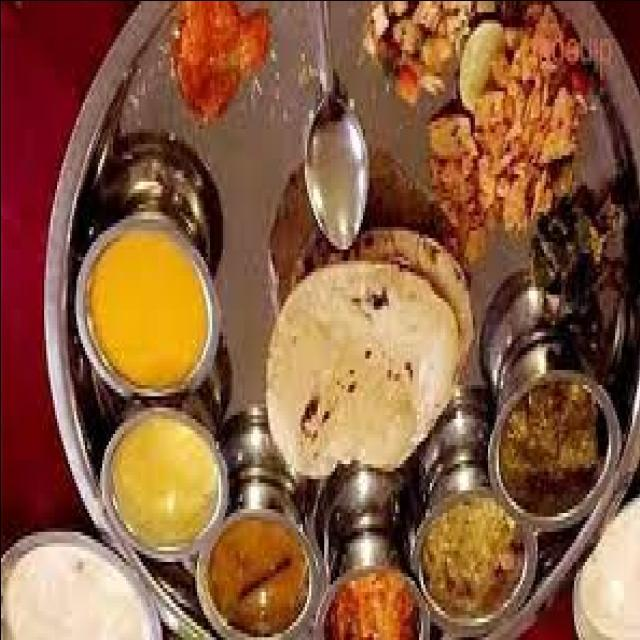dal: (71, 215, 212, 393), (0, 524, 181, 640), (94, 405, 211, 553), (571, 492, 640, 638)
rice: (410, 485, 540, 627)
roti: (256, 239, 456, 485)
sambar-rasam: (0, 519, 174, 640)
veg-fry: (488, 362, 621, 517), (194, 496, 316, 640)
